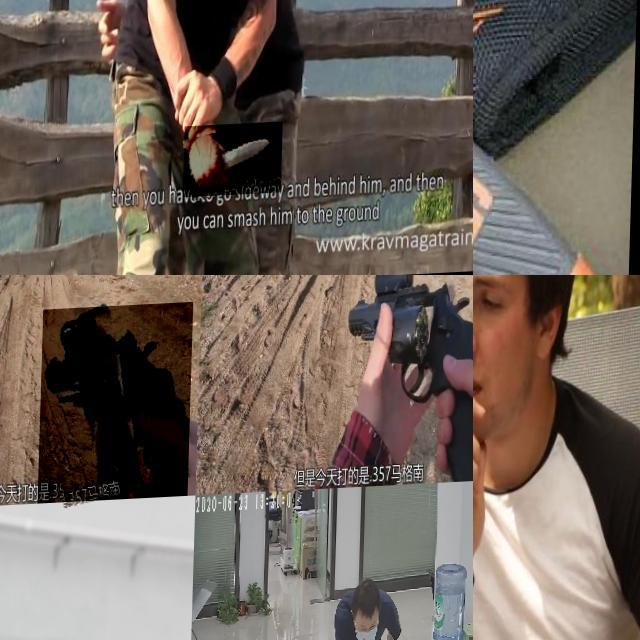-: (473, 0, 614, 133), (473, 432, 518, 640), (187, 125, 286, 200)
gun-knife-thesis - v11 Yolov5 augmented: (39, 305, 194, 506), (334, 275, 473, 483)
